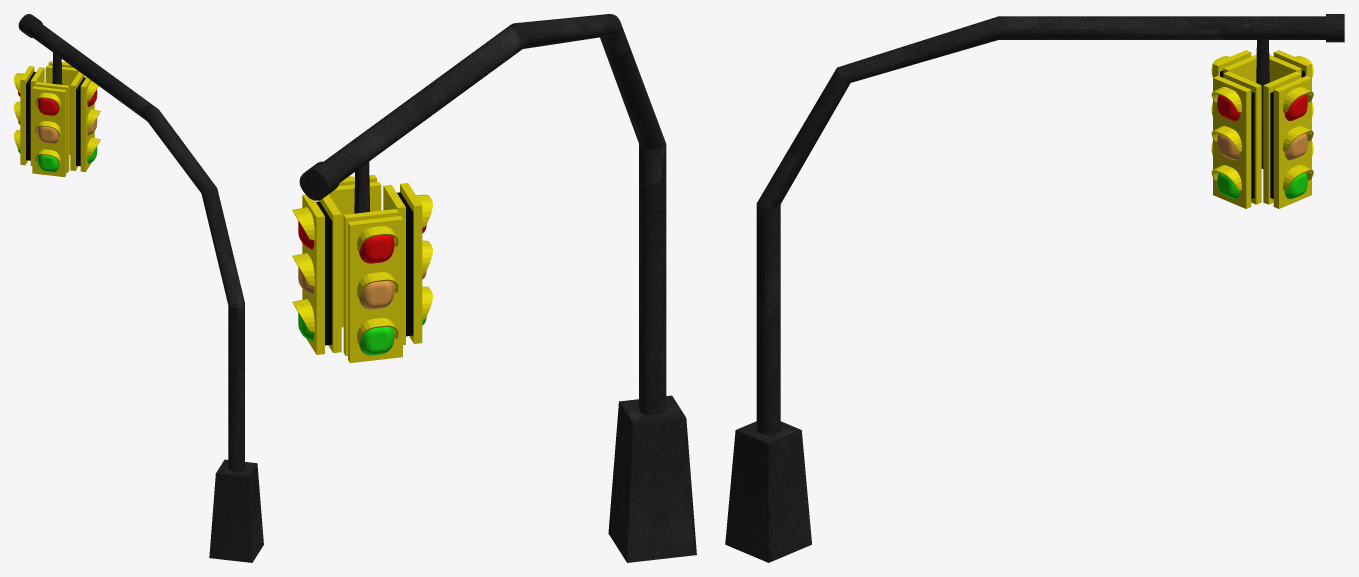
File: trafficLight.fbx
3 renders of one model, left to right at view 1: azimuth 30°, elevation 25°; view 2: azimuth 150°, elevation 25°; view 3: azimuth 270°, elevation 25°, orthographic. The views are drawn at different scales.
Parts seen in each view (by area): view 1: Cube; view 2: Cube; view 3: Cube.
Part boxes in pixels (x1=…): Cube: x1=14, y1=14, x2=263, y2=562; Cube: x1=292, y1=14, x2=696, y2=562; Cube: x1=725, y1=14, x2=1344, y2=562.
Bounding box in the file's own units: 88.43 × 506 × 536.
